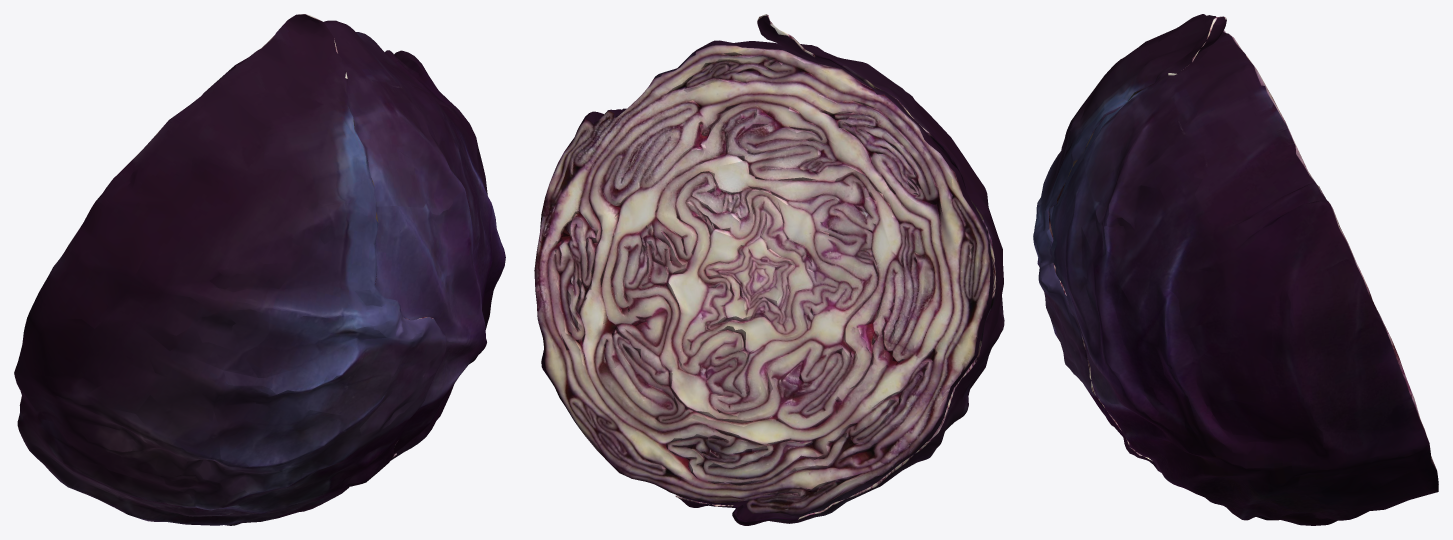
The model's file is PurpleVegetableCabbage.fbx.
3 views of the same model, side by side, from view 1: azimuth 30°, elevation 25°; view 2: azimuth 150°, elevation 25°; view 3: azimuth 270°, elevation 25° (orthographic). The views are drawn at different scales.
Visible parts, largest first — view 1: PurpleCabbage; view 2: PurpleCabbage; view 3: PurpleCabbage.
Boxes of the visible parts, box(x1,y1,x2,y2) form: PurpleCabbage: box(14, 14, 505, 525); PurpleCabbage: box(534, 14, 1004, 525); PurpleCabbage: box(1033, 14, 1438, 525).
Size of the model in its own units: 0.1365 by 0.1038 by 0.1451.
1 material, 1 textured.
